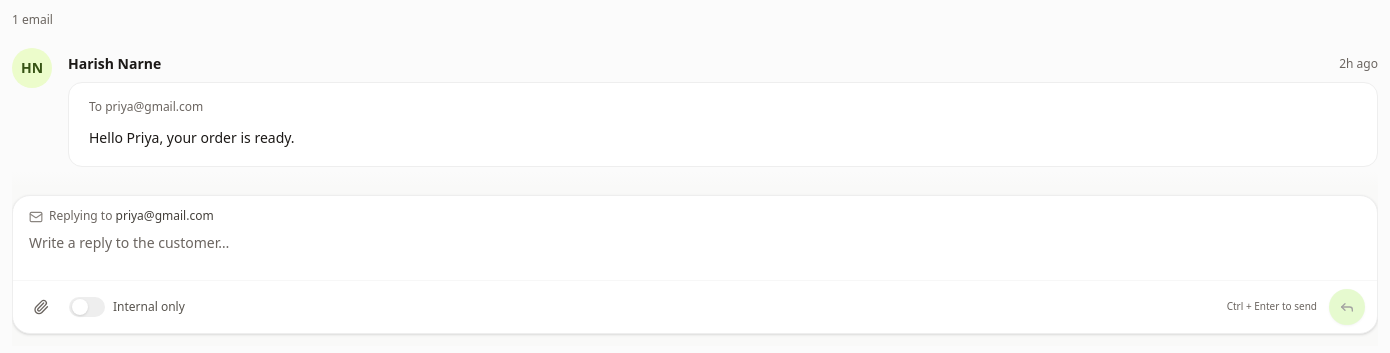
Test: RecordCommunicationTab reply box › with Internal only on, saves a note instead and says nothing is emailed
Expected: the text box labelled "reply to the customer" is shown, [13, 224, 1377, 280]
Click the switch named "Internal only".
click(87, 307)  # box [69, 297, 105, 317]
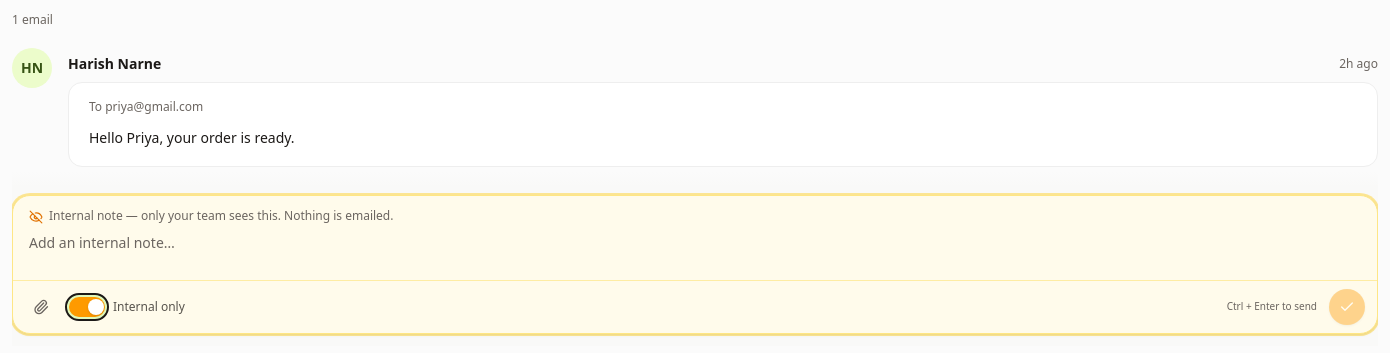
Expected: the switch named "Internal only" is checked, [69, 297, 105, 317]
Expected: the text "only your team sees this. Nothing is emailed." is shown, [49, 207, 394, 224]
Expected: the text "Replying to" is gone
Type "Called Priya, she wants granite." into the text box labelled "internal note".
click(695, 252); type("Called Priya, she wants granite.")  # box [13, 224, 1377, 280]
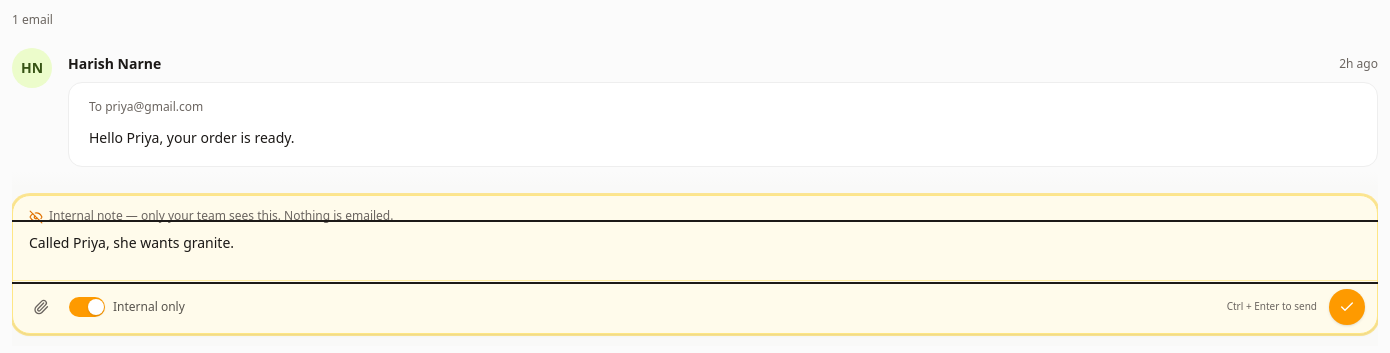
Click the button named "Save internal note".
click(1347, 307)  # box [1329, 289, 1365, 325]
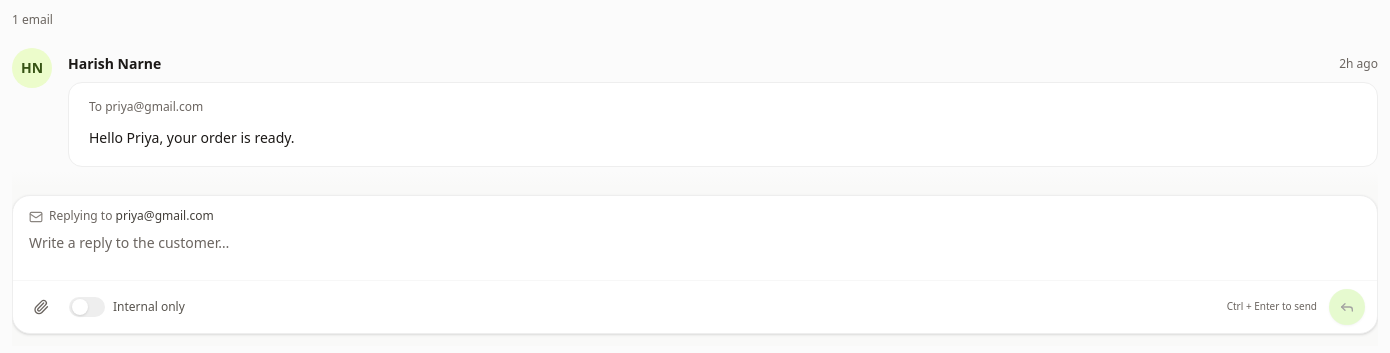
Expected: the switch named "Internal only" is not checked, [69, 297, 105, 317]
Expected: the text box labelled "reply to the customer" is empty, [13, 224, 1377, 280]
